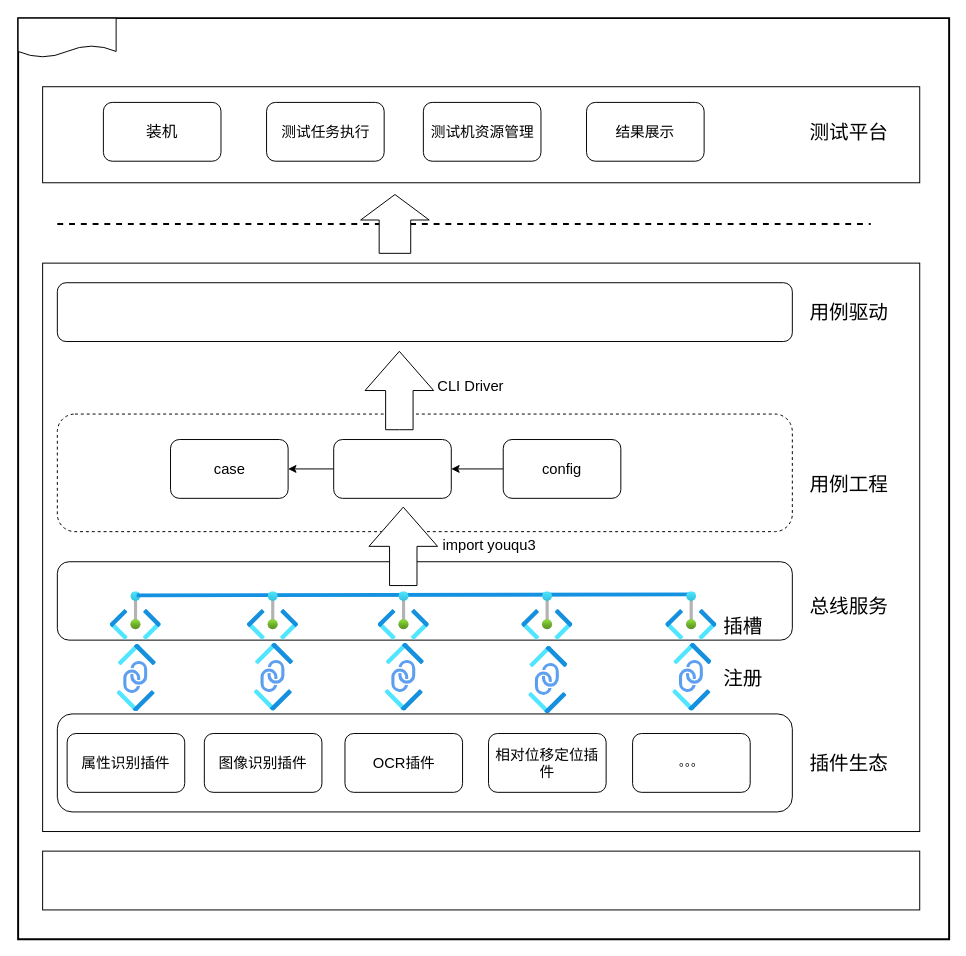
This 966x956 diagram has some shape labels left out. Each missing label, with the centre of its shape:
"API" belongs at point (394, 223).
"Frame" belongs at point (66, 37).
"method" belongs at point (392, 468).
"Native Operation System" belongs at point (481, 880).
"YouQu3驱动执行" belongs at point (424, 312).
